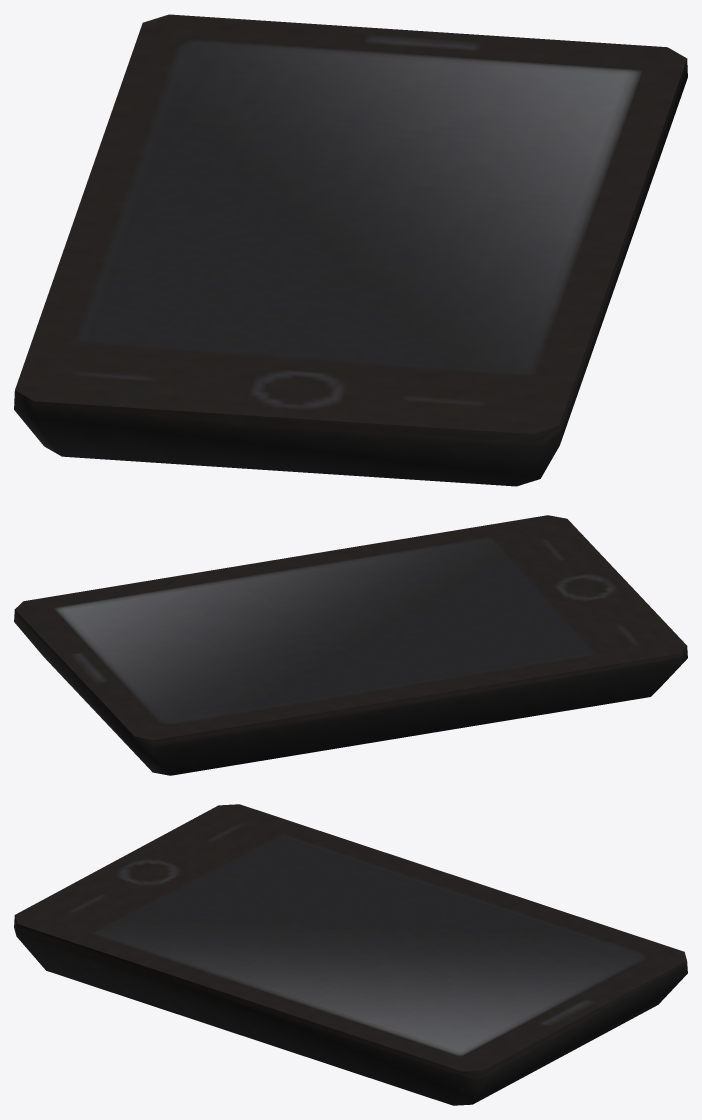
Rendered from ShenMiRenJia_01_shouji_01.FBX.
3 views of the same model, one above another, from view 1: azimuth 30°, elevation 25°; view 2: azimuth 150°, elevation 25°; view 3: azimuth 270°, elevation 25° (orthographic). The views are drawn at different scales.
Visible parts, largest first — view 1: ShenMiRenJia_01_shouji_01; view 2: ShenMiRenJia_01_shouji_01; view 3: ShenMiRenJia_01_shouji_01.
Boxes of the visible parts, x1=… form: ShenMiRenJia_01_shouji_01: x1=14, y1=14, x2=687, y2=486; ShenMiRenJia_01_shouji_01: x1=14, y1=515, x2=687, y2=775; ShenMiRenJia_01_shouji_01: x1=14, y1=804, x2=687, y2=1105.
Bounding box in the file's own units: 102 × 8.59 × 108.
